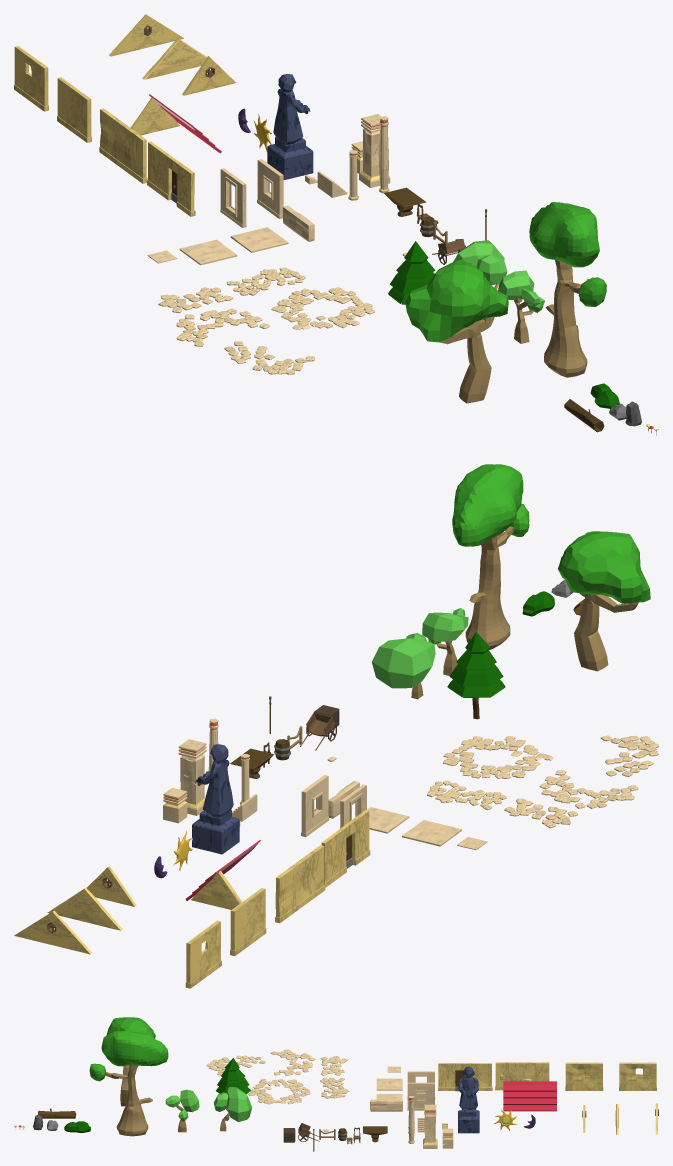
File: testMEGAFUSION.fbx
3 views of the same model, one above another, from view 1: azimuth 30°, elevation 25°; view 2: azimuth 150°, elevation 25°; view 3: azimuth 270°, elevation 25° (orthographic). The views are drawn at different scales.
Parts seen in each view (by area): view 1: GrandArbre1, GrandArbre, Statut, MurVierge, Circulaire, MurPorte, PetitMurVIerge, PetitMurFenetre, arbreMoyen1, Sapin, chemin.004, FaçadeFenetre (+15 smaller); view 2: GrandArbre1, GrandArbre, Statut, arbreMoyen2, Sapin, MurVierge, Circulaire, MurPorte, PetitMurVIerge, PetitMurFenetre, MoyenPilier, arbreMoyen1 (+11 smaller); view 3: GrandArbre1, Toit.001, Statut, MurVierge, PetitMurVIerge, MurPorte, PetitMurFenetre, arbreMoyen2, Circulaire, GrandArbre, arbreMoyen1, Sapin (+15 smaller).
Part boxes in pixels (x1,y1,x2,y2): GrandArbre1: (529, 202, 606, 377); GrandArbre: (405, 260, 508, 403); Statut: (267, 74, 313, 179); MurVierge: (99, 108, 147, 183); Circulaire: (271, 287, 374, 329); MurPorte: (147, 141, 195, 216); PetitMurVIerge: (57, 77, 91, 142); PetitMurFenetre: (14, 46, 48, 111); arbreMoyen1: (498, 270, 544, 343); Sapin: (388, 241, 435, 304); chemin.004: (176, 308, 269, 346); FaçadeFenetre: (109, 14, 183, 56); GrandArbre1: (452, 464, 529, 649); GrandArbre: (558, 531, 650, 671); Statut: (192, 744, 239, 854); arbreMoyen2: (372, 633, 435, 699); Sapin: (447, 632, 505, 719); MurVierge: (275, 845, 325, 923); Circulaire: (442, 736, 553, 778); MurPorte: (321, 810, 370, 887); PetitMurVIerge: (230, 888, 266, 955); PetitMurFenetre: (185, 920, 221, 988); MoyenPilier: (178, 739, 206, 815); arbreMoyen1: (422, 608, 468, 675); GrandArbre1: (89, 1031, 168, 1136); Toit.001: (503, 1081, 556, 1111); Statut: (458, 1066, 479, 1133); MurVierge: (495, 1062, 549, 1090); PetitMurVIerge: (565, 1062, 603, 1090); MurPorte: (438, 1063, 492, 1090); PetitMurFenetre: (619, 1062, 656, 1090); arbreMoyen2: (214, 1087, 251, 1131); Circulaire: (248, 1079, 310, 1104); GrandArbre: (106, 1017, 155, 1106); arbreMoyen1: (165, 1089, 199, 1132); Sapin: (216, 1058, 250, 1093).
Bounding box in the file's own units: 11996 × 4442 × 2111.
